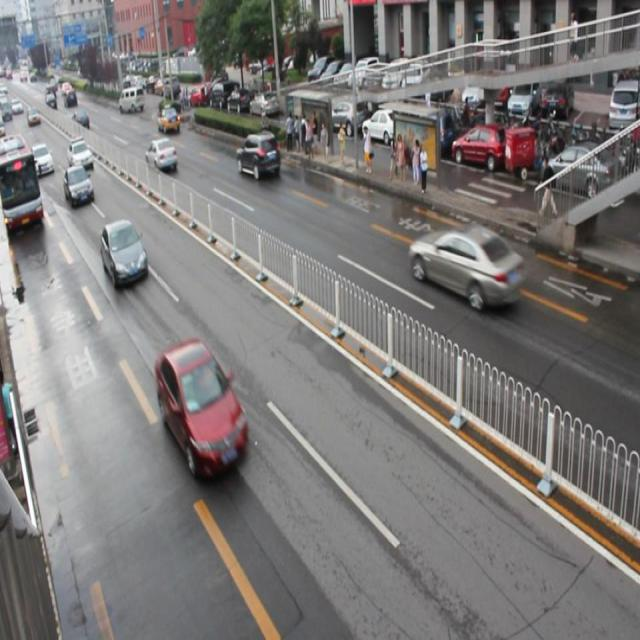car: (154, 340, 249, 478), (407, 221, 523, 311), (100, 220, 148, 284), (235, 130, 280, 180), (64, 165, 94, 207), (146, 138, 177, 170), (67, 138, 94, 170), (158, 106, 180, 132)
van: (0, 133, 44, 232)
